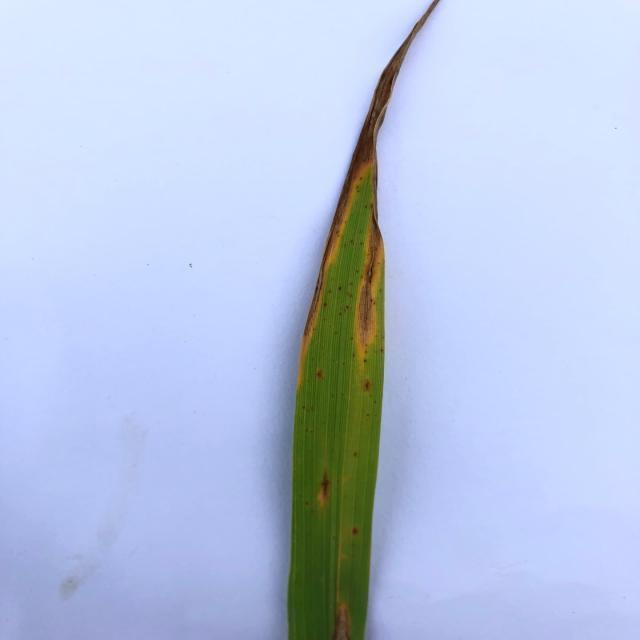Rice Tungro: (356, 161, 389, 381)
